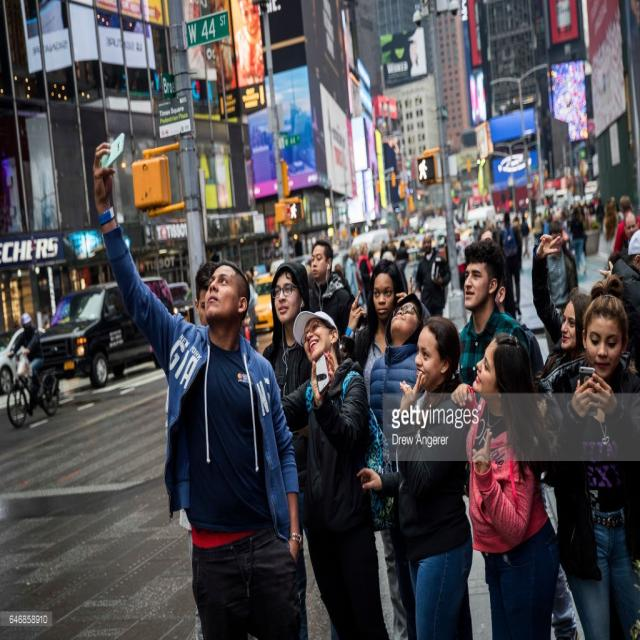body: (90, 129, 318, 639), (455, 237, 586, 640), (355, 316, 477, 640), (276, 307, 390, 640), (540, 267, 640, 640), (340, 256, 433, 640), (274, 200, 639, 297), (450, 331, 564, 639), (260, 259, 340, 640), (367, 291, 432, 640), (176, 257, 224, 640), (529, 232, 626, 350), (542, 218, 580, 354), (306, 237, 352, 341), (215, 0, 266, 92), (6, 311, 44, 416), (413, 232, 453, 318), (498, 212, 522, 316), (244, 269, 259, 350), (414, 156, 432, 184)
